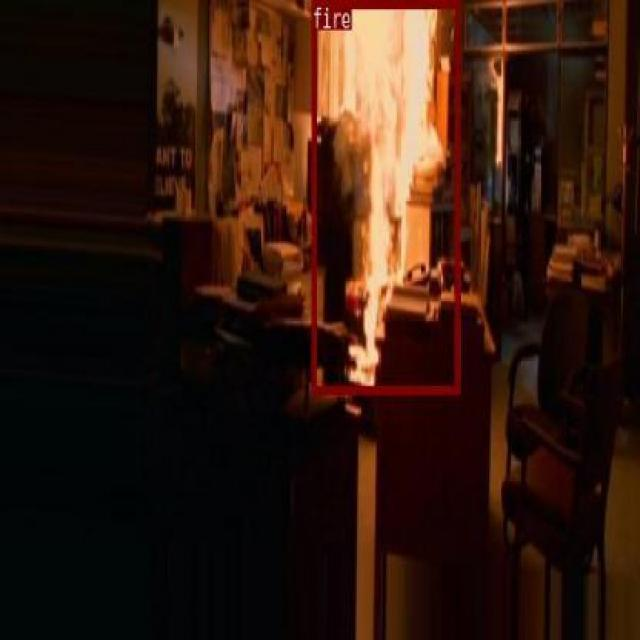Fire: (149, 196, 384, 391)
